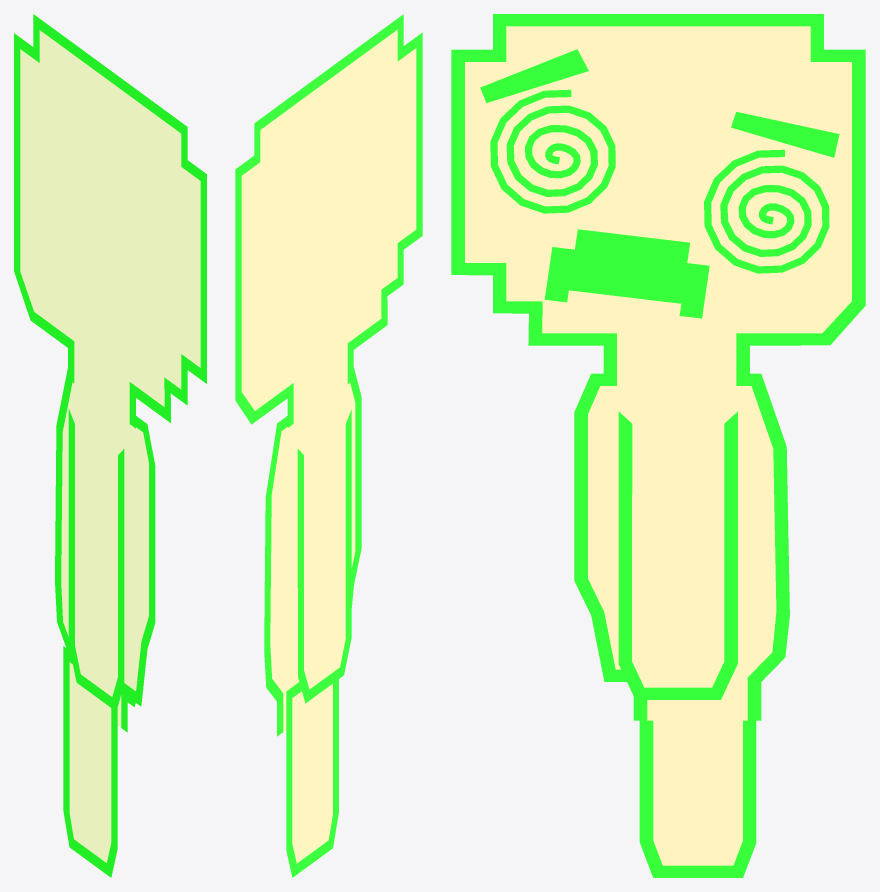
File: ANXIETY (Right).fbx
3 views of the same model, side by side, from view 1: azimuth 30°, elevation 25°; view 2: azimuth 150°, elevation 25°; view 3: azimuth 270°, elevation 25° (orthographic). The views are drawn at different scales.
Parts seen in each view (by area): view 1: Plane.052, Plane.122, Plane.085, Plane.055; view 2: Plane.052, Plane.122, Plane.085, Plane.055; view 3: Plane.052, Plane.085, Plane.089, Plane.055, Plane.104, BézierCurve.004, BézierCurve.005, Plane.112, Plane.092.
Boxes of the visible parts, <box> form: Plane.052: <box>14,14,206,428</box>; Plane.122: <box>68,408,124,711</box>; Plane.085: <box>55,368,155,732</box>; Plane.055: <box>63,646,117,877</box>; Plane.052: <box>235,14,422,427</box>; Plane.122: <box>297,409,351,703</box>; Plane.085: <box>264,367,361,736</box>; Plane.055: <box>286,679,338,877</box>; Plane.052: <box>451,14,865,373</box>; Plane.085: <box>574,373,789,720</box>; Plane.089: <box>618,411,737,699</box>; Plane.055: <box>639,720,756,877</box>; Plane.104: <box>544,229,709,318</box>; BézierCurve.004: <box>490,89,615,213</box>; BézierCurve.005: <box>704,149,829,273</box>; Plane.112: <box>731,112,839,157</box>; Plane.092: <box>480,49,588,102</box>.
Bounding box in the file's own units: 9.61 × 408 × 177.
